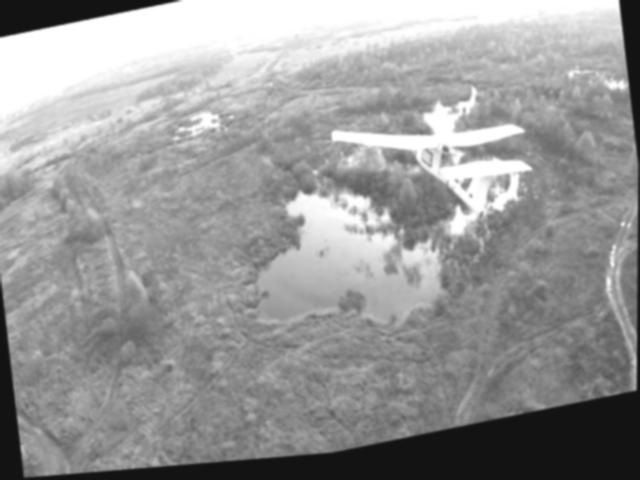hedef: (326, 95, 560, 272)
